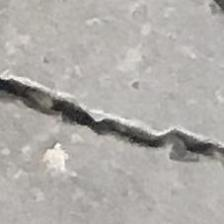Crack: (0, 70, 224, 166)
